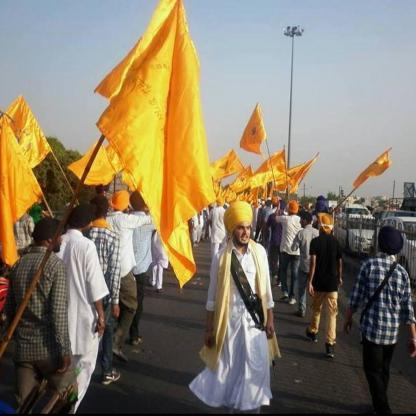face: (236, 220, 251, 244), (52, 233, 64, 253), (301, 218, 309, 229)
